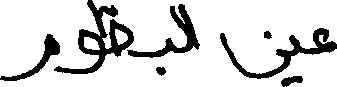ا: (187, 12, 197, 51)
ب: (152, 37, 171, 75)
ط: (89, 0, 132, 54)
ع: (311, 25, 336, 55)
ل: (170, 1, 189, 52)
م: (0, 31, 60, 81)
ن: (211, 29, 288, 85)
و: (71, 30, 102, 74)
ي: (288, 33, 299, 85)
